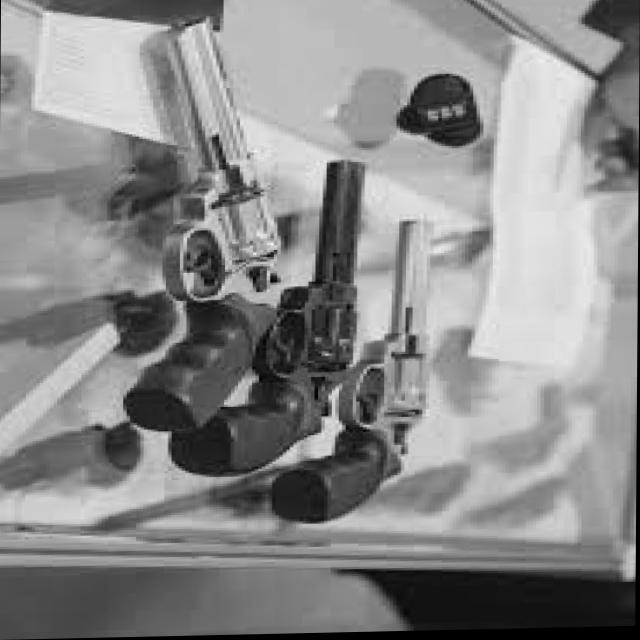handgun: (133, 14, 289, 444), (171, 160, 373, 480), (266, 226, 439, 524)
